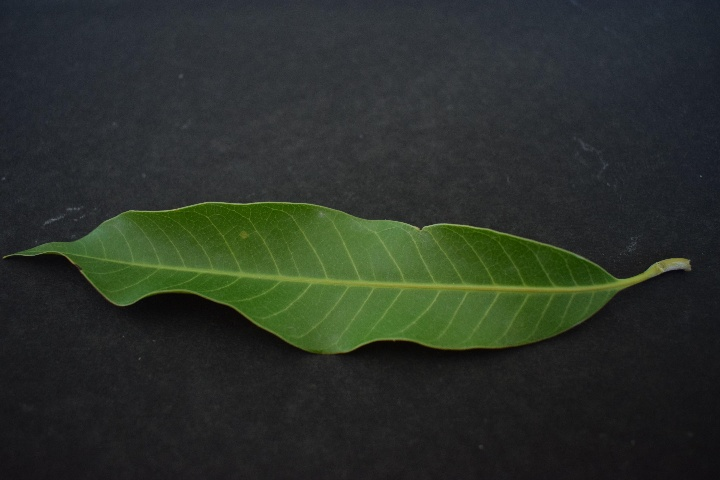healthy: (47, 197, 611, 356)
